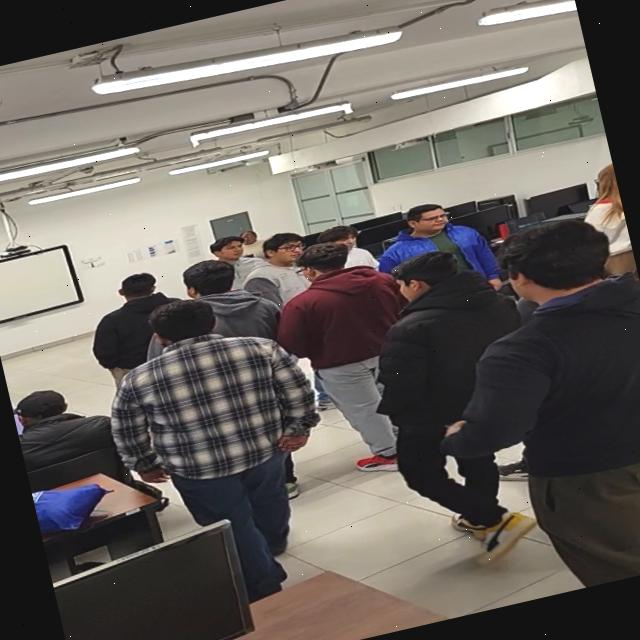Persona: (356, 248, 550, 585), (459, 213, 640, 568), (96, 280, 298, 582), (284, 238, 416, 486), (376, 178, 484, 262), (582, 158, 632, 252), (246, 224, 316, 290), (198, 227, 256, 272)
